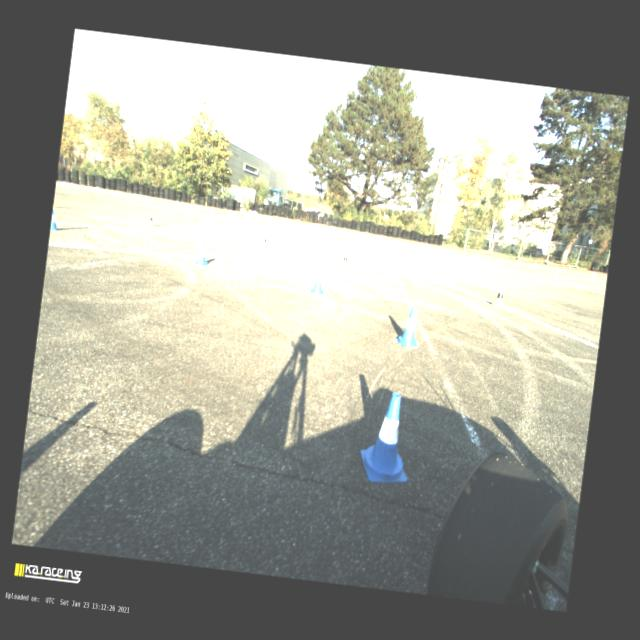blue_cone: (356, 389, 416, 485), (394, 305, 423, 348), (308, 266, 326, 295), (192, 240, 210, 266), (50, 208, 60, 230), (132, 192, 138, 199), (61, 180, 66, 187), (95, 185, 100, 192), (228, 209, 233, 216), (174, 200, 178, 206), (590, 272, 594, 278), (532, 262, 536, 268), (475, 252, 479, 258), (328, 226, 332, 232), (283, 218, 286, 224)
yellow_cone: (489, 284, 506, 308), (144, 212, 156, 228), (258, 232, 268, 249), (340, 252, 350, 268), (552, 266, 558, 274), (115, 190, 120, 198), (52, 199, 56, 208), (66, 182, 70, 190), (210, 206, 214, 214), (146, 195, 150, 202), (486, 255, 490, 262), (272, 217, 276, 224), (424, 244, 428, 250), (382, 237, 386, 243), (322, 226, 325, 234)
